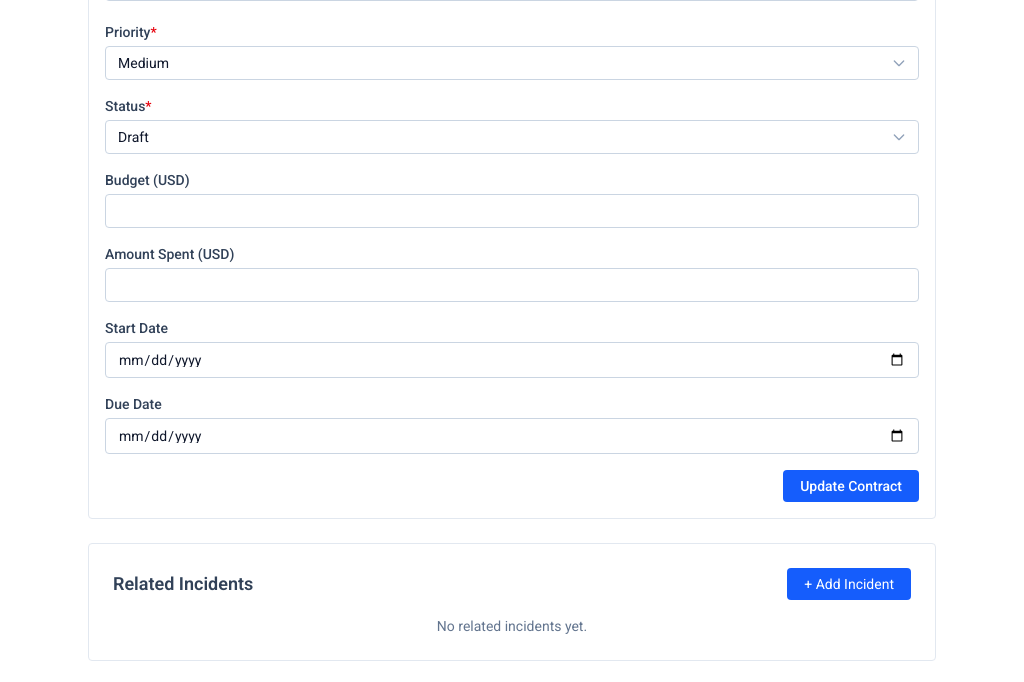
Test: EditContractPage › shows API error when contract update fails
The image size is (1024, 682).
(page scrolled)
What coordinates should you click on to do the following:
click the button "Update Contract"
I would click on:
 (851, 486)
Its box is [783,470,919,502].
(page scrolled)
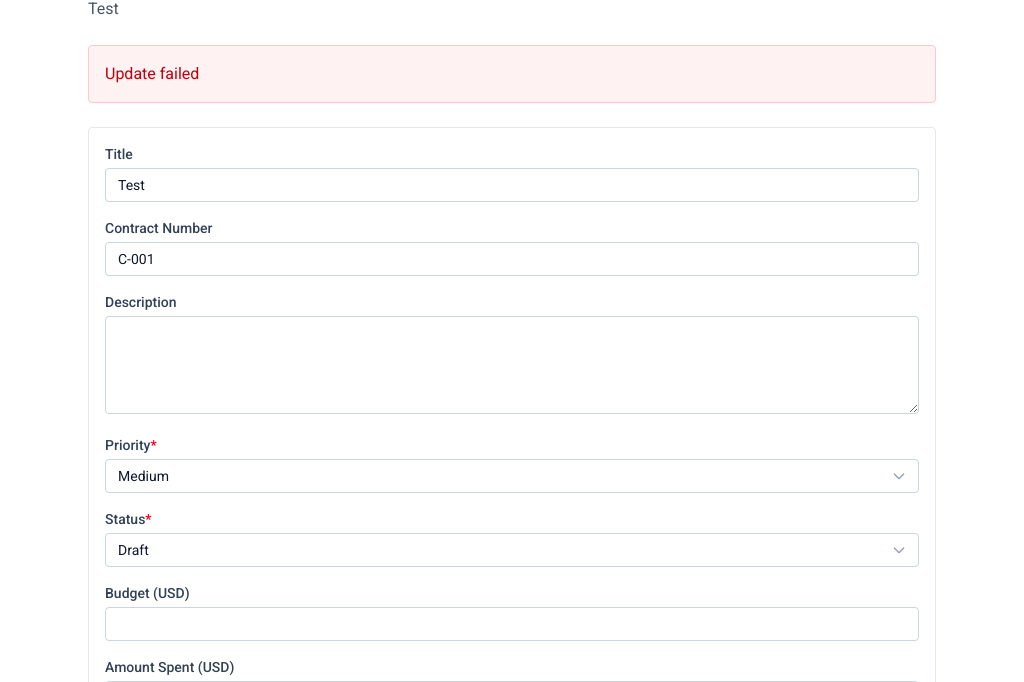
Result: the text "Update failed" is shown at [88,45,936,103]
